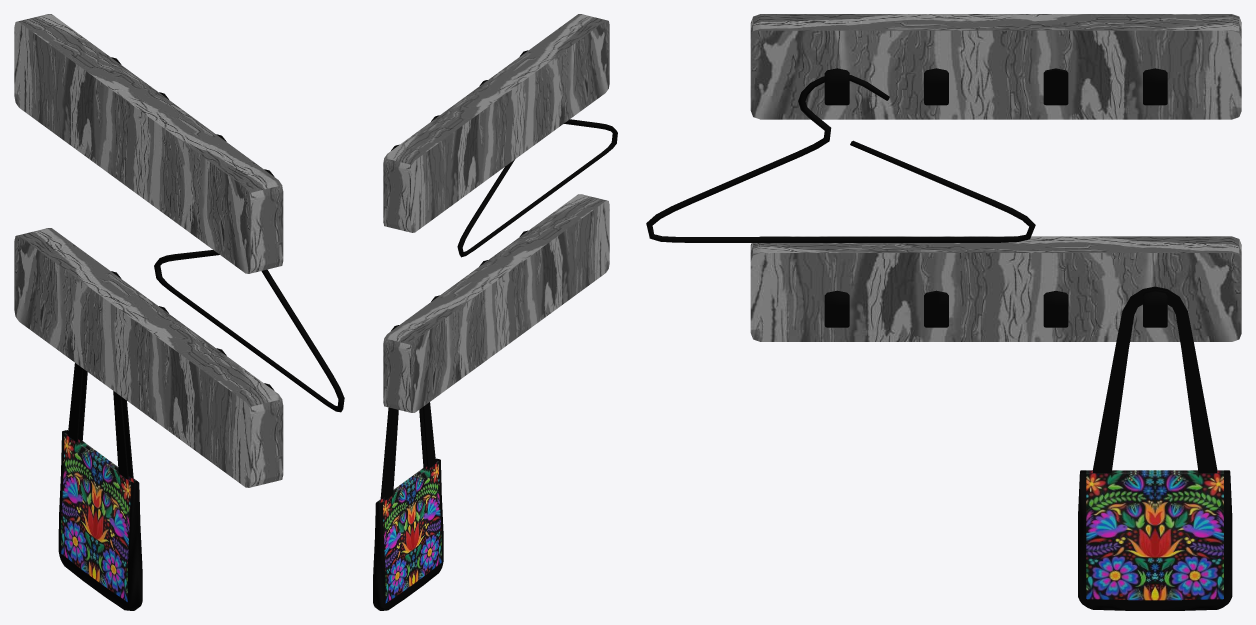
The model's file is perchero.glb.
3 views of the same model, side by side, from view 1: azimuth 30°, elevation 25°; view 2: azimuth 150°, elevation 25°; view 3: azimuth 270°, elevation 25° (orthographic). The views are drawn at different scales.
Parts seen in each view (by area): view 1: Cube.001, Cube.004; view 2: Cube.001, Cube.004; view 3: Cube.001, Cube.004.
Part boxes in pixels (<box>): Cube.001: <box>14,14,344,487</box>; Cube.004: <box>58,363,142,610</box>; Cube.001: <box>383,14,617,412</box>; Cube.004: <box>373,402,443,610</box>; Cube.001: <box>646,14,1241,341</box>; Cube.004: <box>1078,286,1232,610</box>.
Size of the model in its own units: 0.1772 by 1.54 by 1.45.
4 materials, 2 textured.
